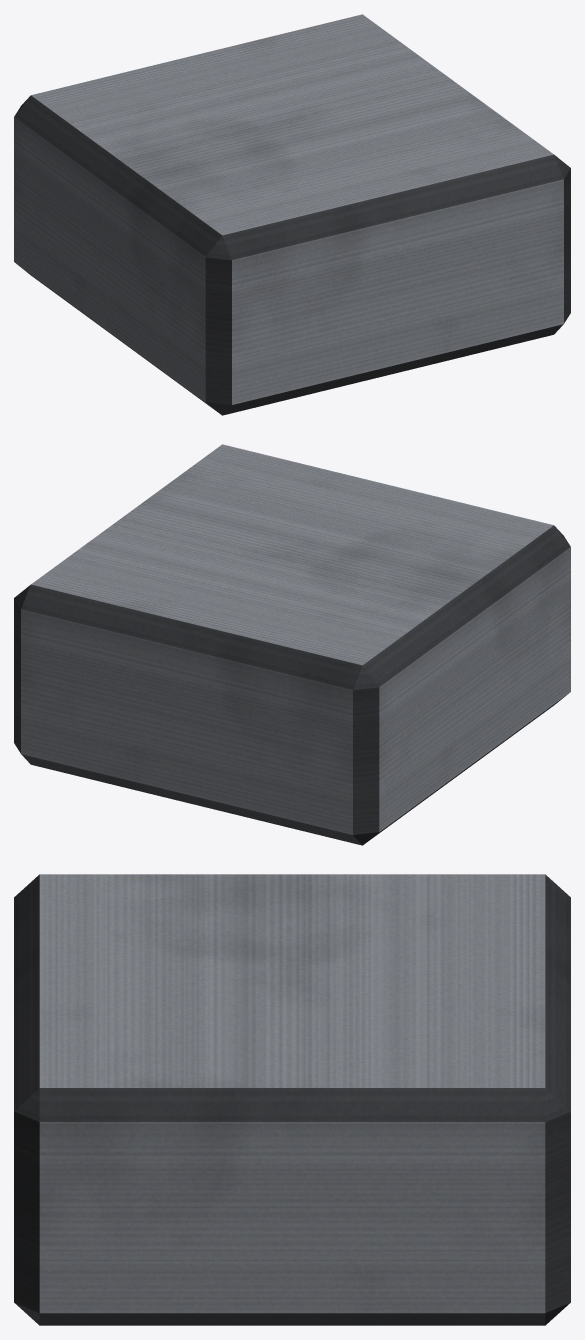
File: R4B_HalfBlock_LOD1.glb
3 views of the same model, one above another, from view 1: azimuth 30°, elevation 25°; view 2: azimuth 150°, elevation 25°; view 3: azimuth 270°, elevation 25° (orthographic). The views are drawn at different scales.
Parts seen in each view (by area): view 1: R4B_HalfBlock_LOD1; view 2: R4B_HalfBlock_LOD1; view 3: R4B_HalfBlock_LOD1.
Boxes of the visible parts, x1,y1,x2,y2 form: R4B_HalfBlock_LOD1: (14, 14, 570, 415); R4B_HalfBlock_LOD1: (14, 444, 570, 845); R4B_HalfBlock_LOD1: (14, 874, 570, 1325).
Bounding box in the file's own units: 0.52 × 0.245 × 0.52.
2 materials, 2 textured.
